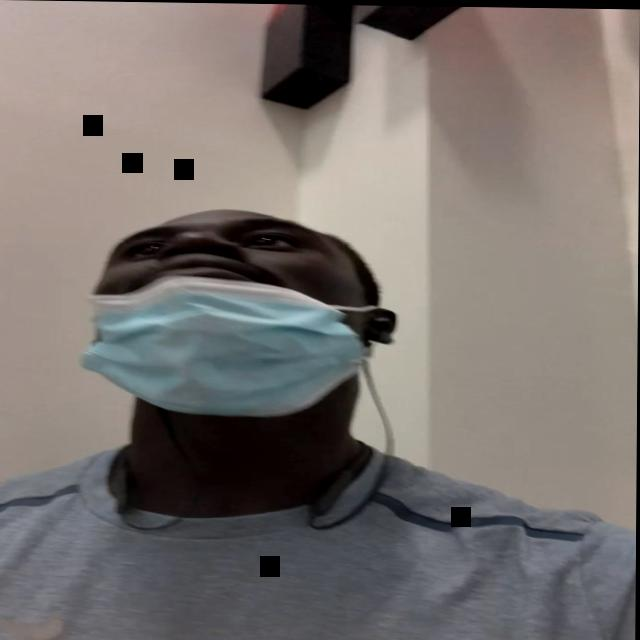NO-Mask: (80, 209, 385, 418)
